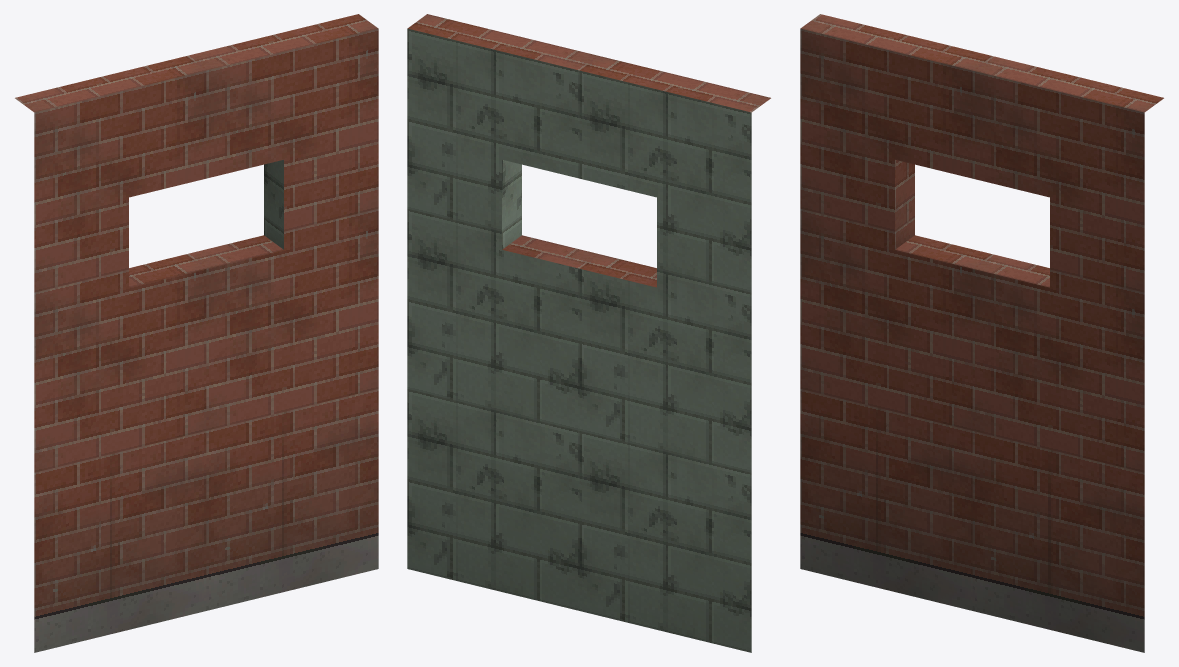
The model's file is wall_window_brick_cell.glb.
The picture shows the model from 3 angles, left to right: view 1: azimuth 30°, elevation 25°; view 2: azimuth 150°, elevation 25°; view 3: azimuth 330°, elevation 25°; orthographic projection.
Parts seen in each view (by area): view 1: wall_window_brick_cell; view 2: wall_window_brick_cell; view 3: wall_window_brick_cell.
Part boxes in pixels (<box>): wall_window_brick_cell: <box>15,14,378,652</box>; wall_window_brick_cell: <box>407,14,770,652</box>; wall_window_brick_cell: <box>800,14,1163,652</box>.
Bounding box in the file's own units: 2 × 3 × 0.2.
Materials: 4 (4 with a texture image).
